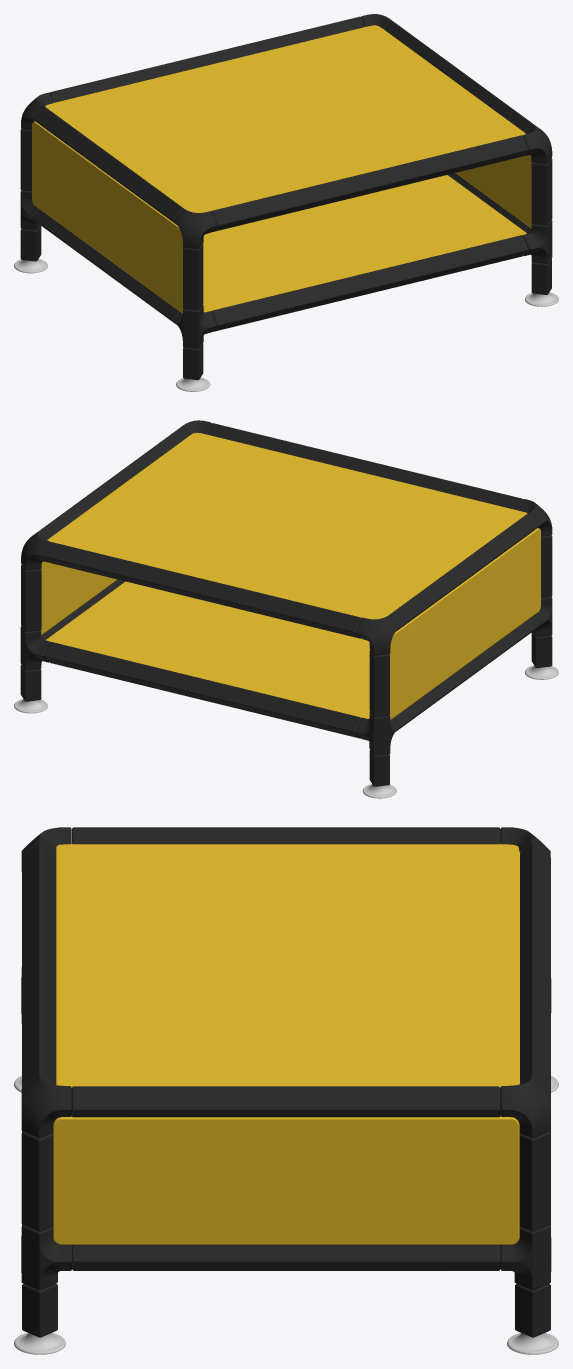
3 renders of one model, top to bottom at view 1: azimuth 30°, elevation 25°; view 2: azimuth 150°, elevation 25°; view 3: azimuth 270°, elevation 25°, orthographic. The views are drawn at different scales.
Parts seen in each view (by area): view 1: 420x329x79; view 2: 420x329x79; view 3: 420x329x79.
Boxes of the visible parts, box(x1,y1,x2,y2) form: 420x329x79: box(14, 14, 558, 391); 420x329x79: box(14, 420, 558, 798); 420x329x79: box(14, 827, 558, 1354).
Size of the model in its own units: 0.5099 by 0.2183 by 0.4182.
